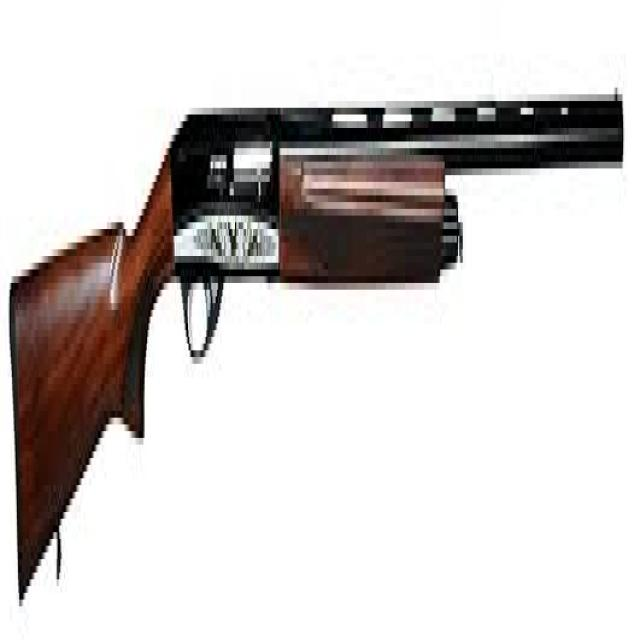rifle: (10, 44, 632, 629)
